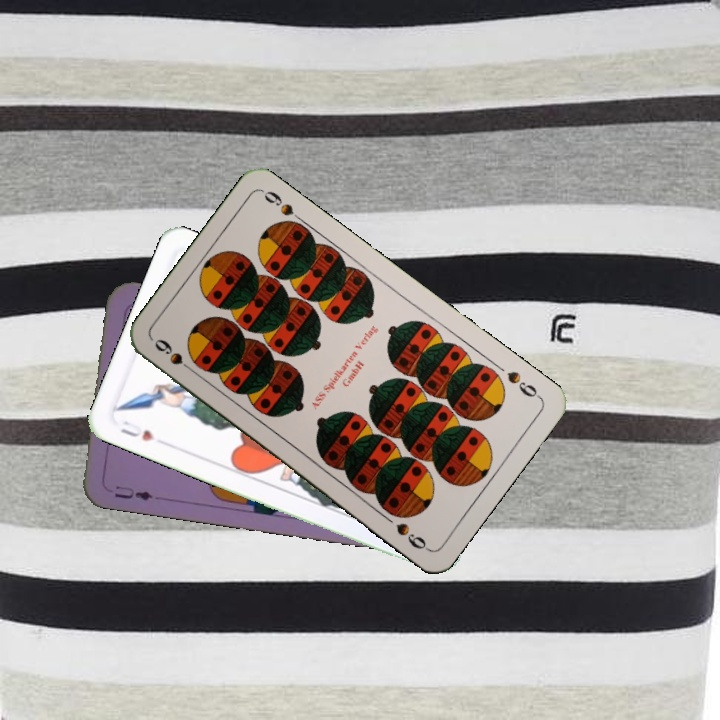EU: (110, 481, 155, 503)
HU: (116, 416, 157, 444)
S9: (150, 334, 200, 378), (502, 367, 544, 402)
